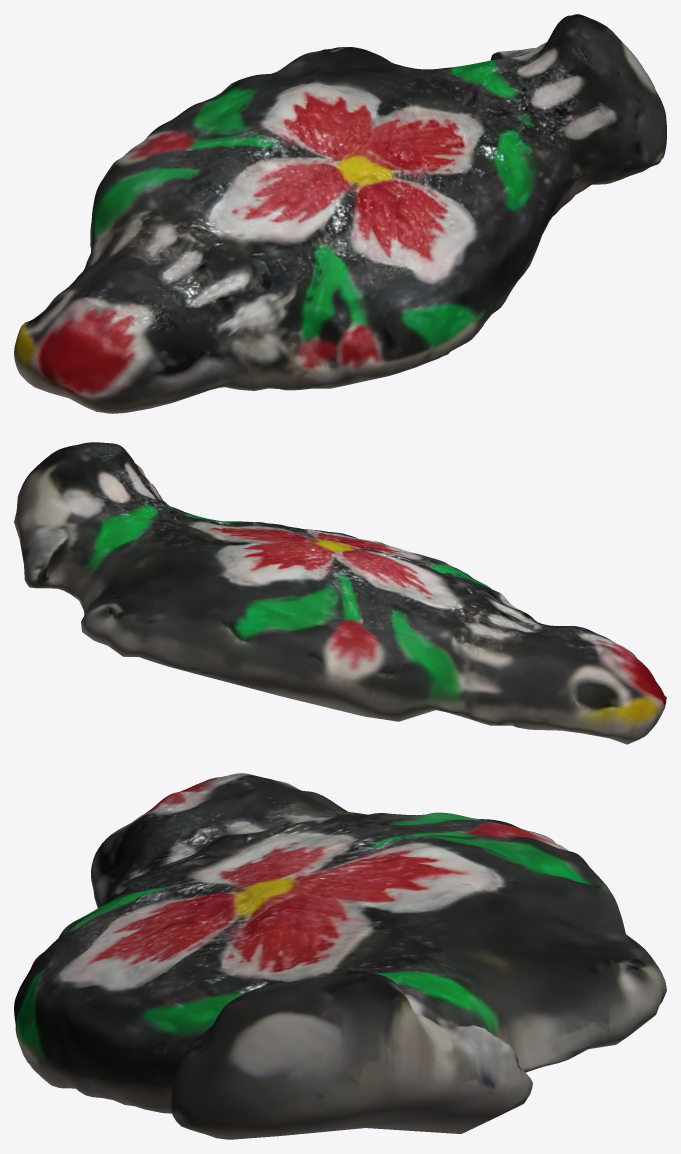
3 views of the same model, one above another, from view 1: azimuth 30°, elevation 25°; view 2: azimuth 150°, elevation 25°; view 3: azimuth 270°, elevation 25° (orthographic). The views are drawn at different scales.
Bounding box in the file's own units: 0.6981 × 0.2137 × 0.4343.
1 material, 1 textured.
